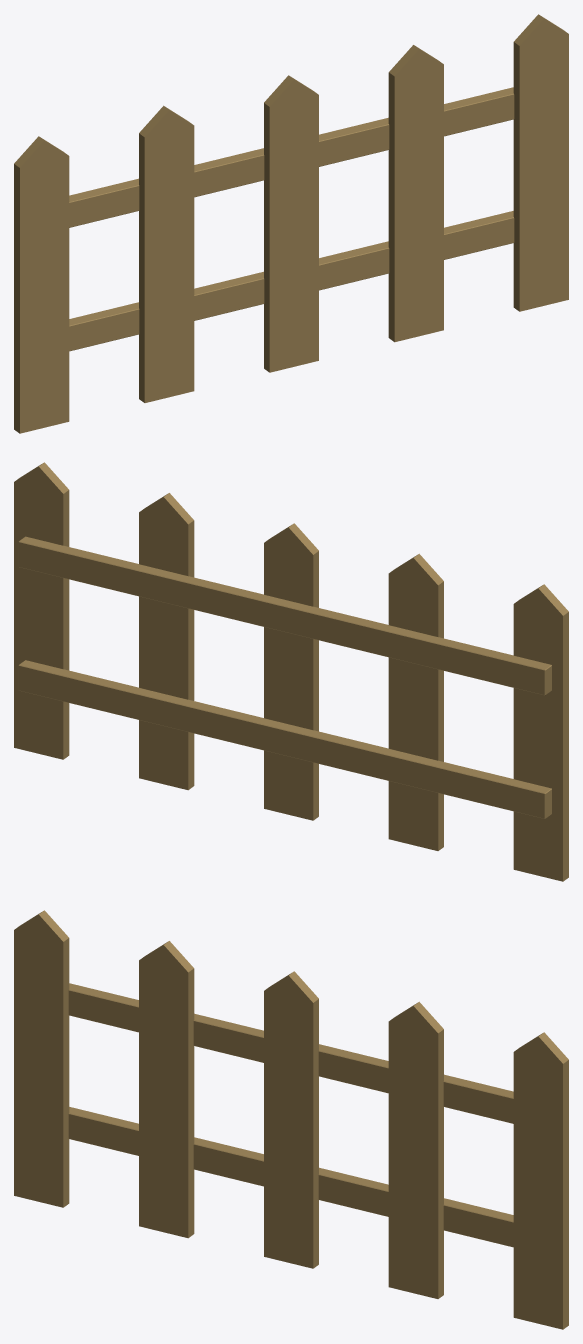
Rendered from fence_section.glb.
3 renders of one model, top to bottom at view 1: azimuth 30°, elevation 25°; view 2: azimuth 150°, elevation 25°; view 3: azimuth 330°, elevation 25°, orthographic.
Visible parts, largest first — view 1: Pointed fence slat; view 2: Pointed fence slat; view 3: Pointed fence slat.
Part boxes in pixels (bbox=[...]): Pointed fence slat: bbox=[14, 14, 568, 433]; Pointed fence slat: bbox=[14, 462, 568, 881]; Pointed fence slat: bbox=[14, 910, 568, 1329].
Bounding box in the file's own units: 2 × 1 × 0.08.
